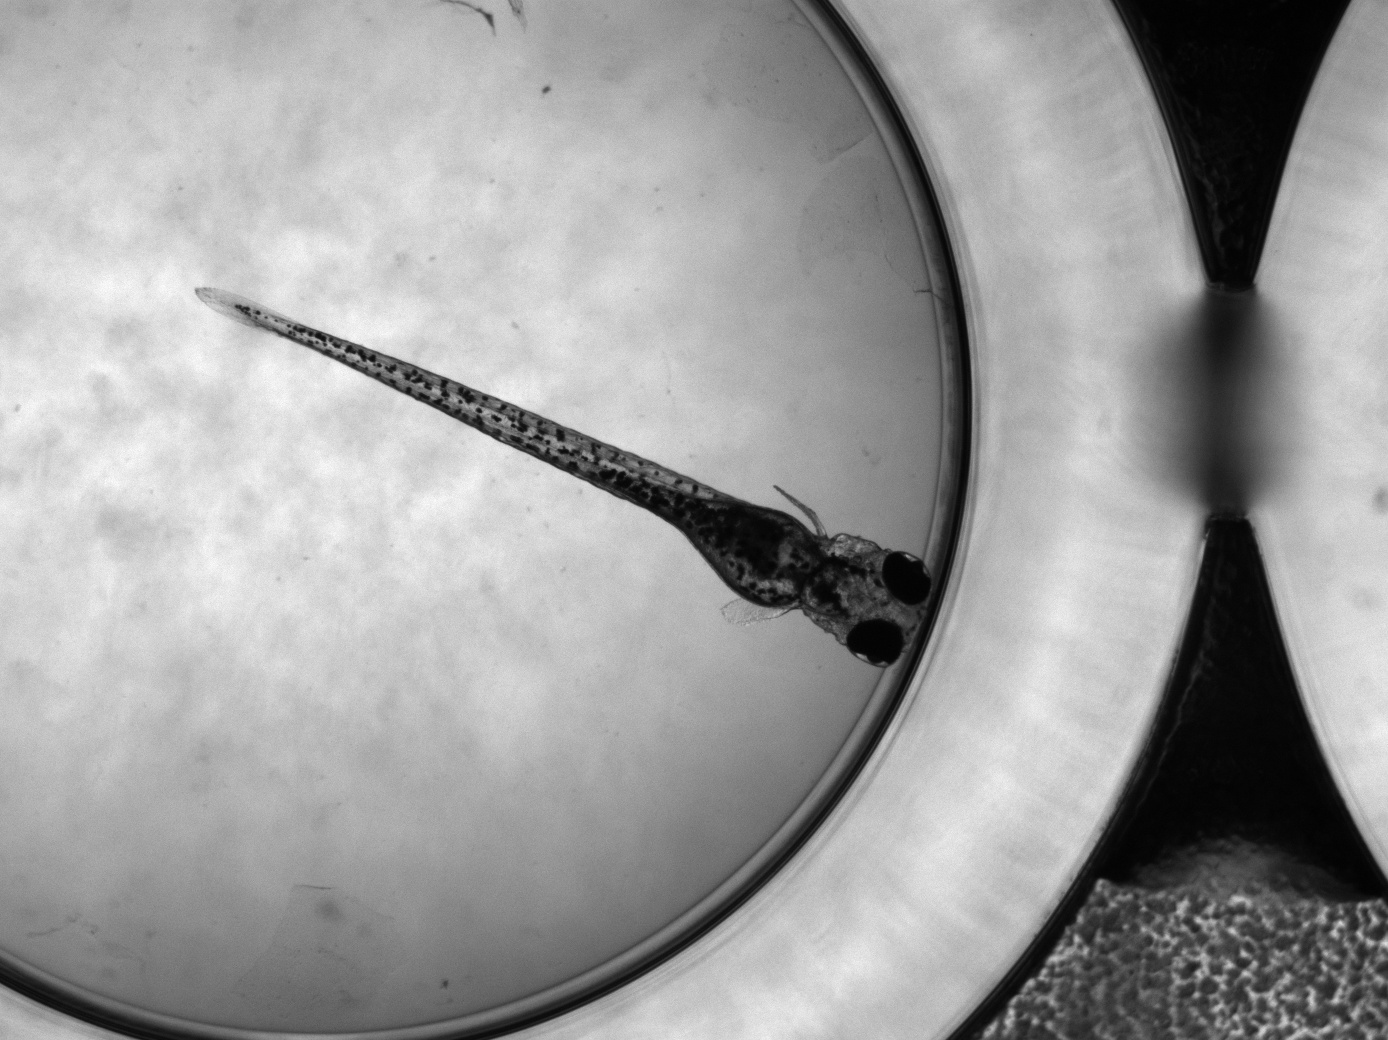embryo: (198, 289, 934, 667)
eye: (882, 552, 933, 607), (847, 621, 904, 669)
yolksac: (699, 494, 814, 608)
